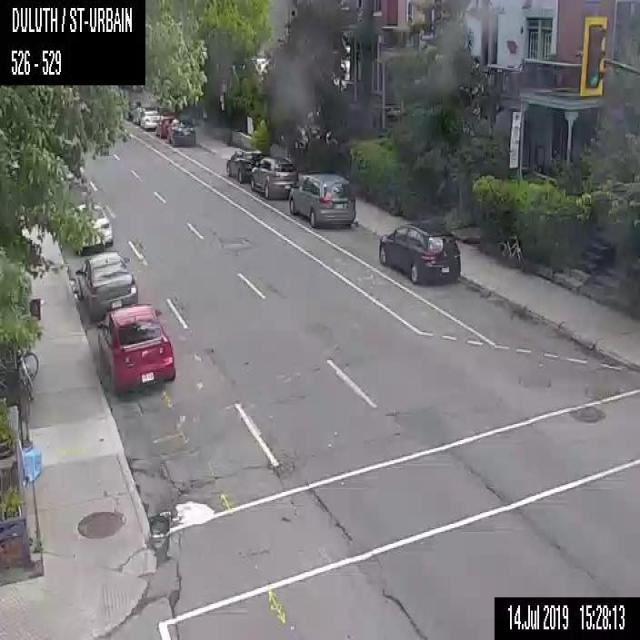vehicle: (96, 302, 174, 393), (376, 220, 461, 283), (73, 252, 139, 316), (288, 172, 357, 227), (250, 155, 297, 200), (70, 202, 114, 244), (224, 147, 264, 182), (167, 118, 195, 145), (155, 114, 176, 137), (142, 110, 160, 132)
